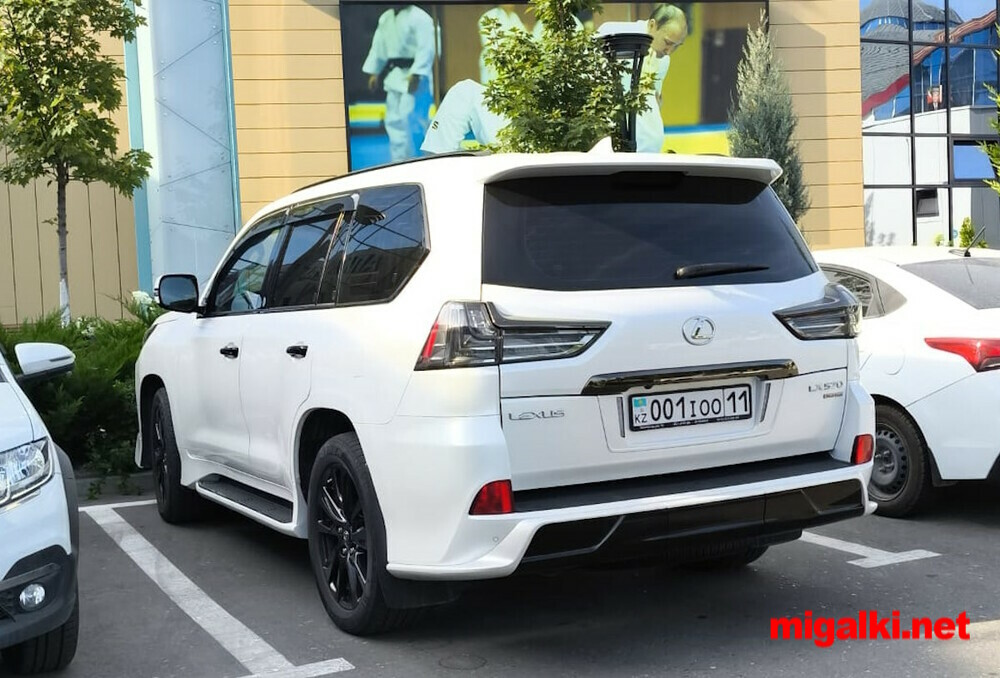license_plate: (630, 388, 754, 425)
